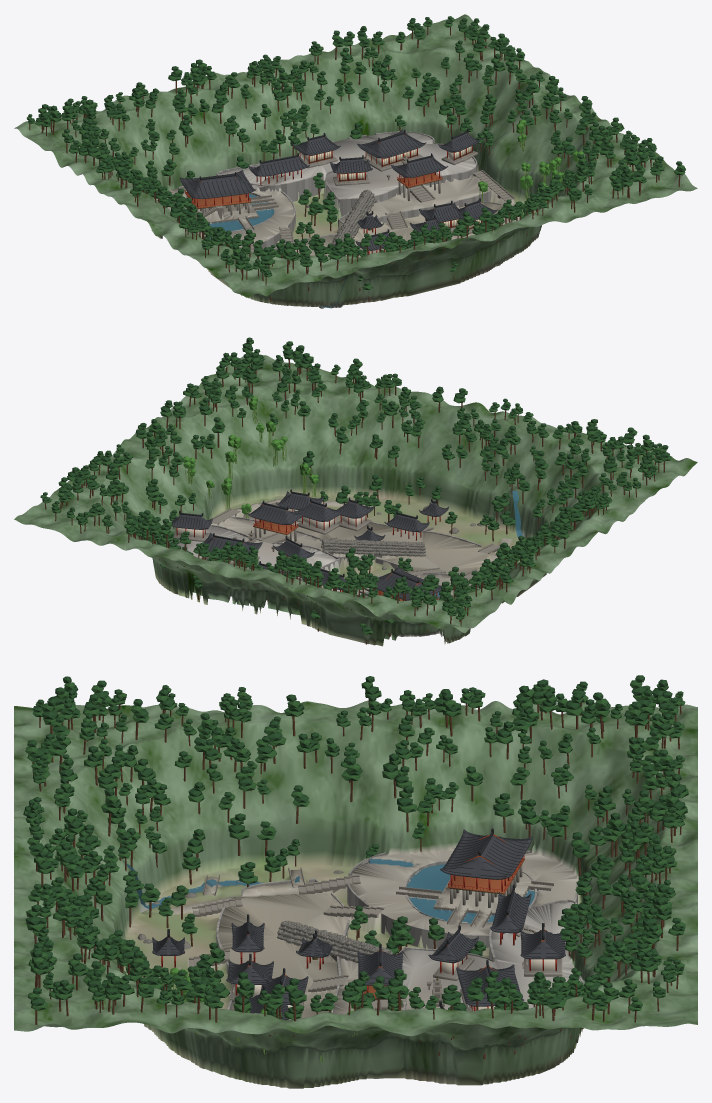
File: temple.gltf
3 views of the same model, one above another, from view 1: azimuth 30°, elevation 25°; view 2: azimuth 150°, elevation 25°; view 3: azimuth 270°, elevation 25° (orthographic). The views are drawn at different scales.
Parts seen in each view (by area): view 1: Col_Terrain, Col_Buildings, Col_Walls, Col_Stone, Vis_Steps, Col_Rocks, Vis_Water; view 2: Col_Terrain, Col_Buildings, Col_Rocks, Col_Walls, Vis_Steps, Col_Stone; view 3: Col_Terrain, Col_Buildings, Col_Stone, Col_Walls, Vis_Water, Col_Rocks, Vis_Steps.
Boxes of the visible parts, <box> form: Col_Terrain: <box>14,14,697,308</box>; Col_Buildings: <box>179,128,497,254</box>; Col_Walls: <box>162,131,501,249</box>; Col_Stone: <box>196,155,514,253</box>; Vis_Steps: <box>196,171,513,252</box>; Col_Rocks: <box>306,189,376,308</box>; Vis_Water: <box>209,194,351,308</box>; Col_Terrain: <box>14,355,697,646</box>; Col_Buildings: <box>172,489,448,600</box>; Col_Rocks: <box>321,505,483,569</box>; Col_Walls: <box>177,515,481,645</box>; Vis_Steps: <box>211,509,499,595</box>; Col_Stone: <box>212,508,500,596</box>; Col_Terrain: <box>14,700,697,1088</box>; Col_Buildings: <box>152,828,565,1020</box>; Col_Stone: <box>189,867,553,1010</box>; Col_Walls: <box>216,850,583,1078</box>; Vis_Water: <box>124,859,534,923</box>; Col_Rocks: <box>137,870,392,962</box>; Vis_Steps: <box>189,877,533,1008</box>.
Bounding box in the file's own units: 188 × 42.81 × 168.
